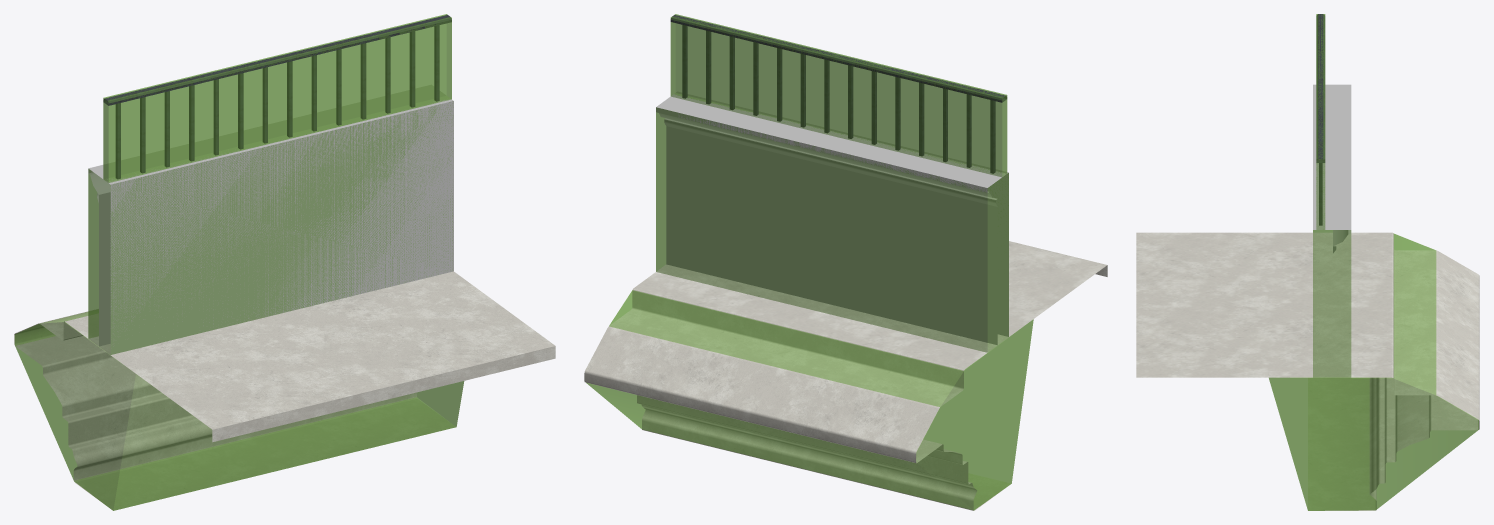
The model's file is F9_md_Roof_2m_01.fbx.
The picture shows the model from 3 angles, left to right: view 1: azimuth 30°, elevation 25°; view 2: azimuth 150°, elevation 25°; view 3: azimuth 270°, elevation 25°; orthographic projection. The views are drawn at different scales.
Parts seen in each view (by area): view 1: F9_md_Roof_2m_01_LOD0, F9_md_Roof_2m_01_col_1, F9_md_Roof_2m_01_col_2, F9_md_Roof_2m_01_col_3; view 2: F9_md_Roof_2m_01_LOD0, F9_md_Roof_2m_01_col_1, F9_md_Roof_2m_01_col_2, F9_md_Roof_2m_01_col_3; view 3: F9_md_Roof_2m_01_LOD0, F9_md_Roof_2m_01_col_2, F9_md_Roof_2m_01_col_1, F9_md_Roof_2m_01_col_3.
Part boxes in pixels (box(x1,y1,x2,y2)): F9_md_Roof_2m_01_LOD0: box(14, 15, 555, 510); F9_md_Roof_2m_01_col_1: box(88, 101, 453, 354); F9_md_Roof_2m_01_col_2: box(14, 312, 464, 510); F9_md_Roof_2m_01_col_3: box(103, 14, 451, 182); F9_md_Roof_2m_01_LOD0: box(584, 15, 1107, 510); F9_md_Roof_2m_01_col_1: box(656, 107, 1008, 352); F9_md_Roof_2m_01_col_2: box(586, 290, 1033, 510); F9_md_Roof_2m_01_col_3: box(670, 14, 1007, 177); F9_md_Roof_2m_01_LOD0: box(1136, 14, 1479, 510); F9_md_Roof_2m_01_col_2: box(1269, 233, 1478, 510); F9_md_Roof_2m_01_col_1: box(1313, 230, 1351, 377); F9_md_Roof_2m_01_col_3: box(1316, 14, 1325, 229).
Size of what is drawn, in the model's own units: 200 by 226 by 200.
